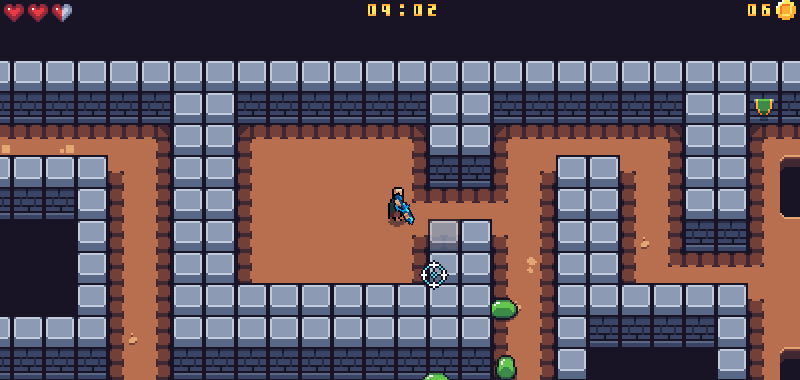enemy_slug: (488, 295, 520, 324), (492, 352, 521, 380)
